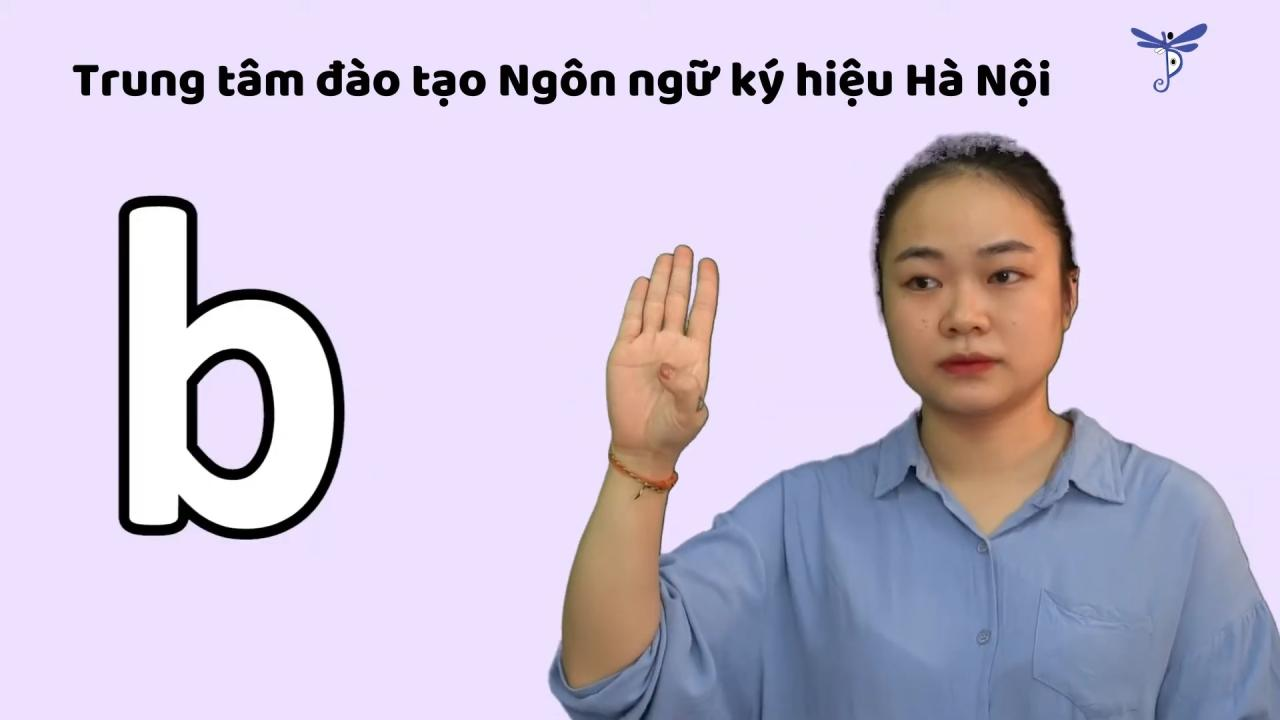B: (600, 237, 724, 483)
